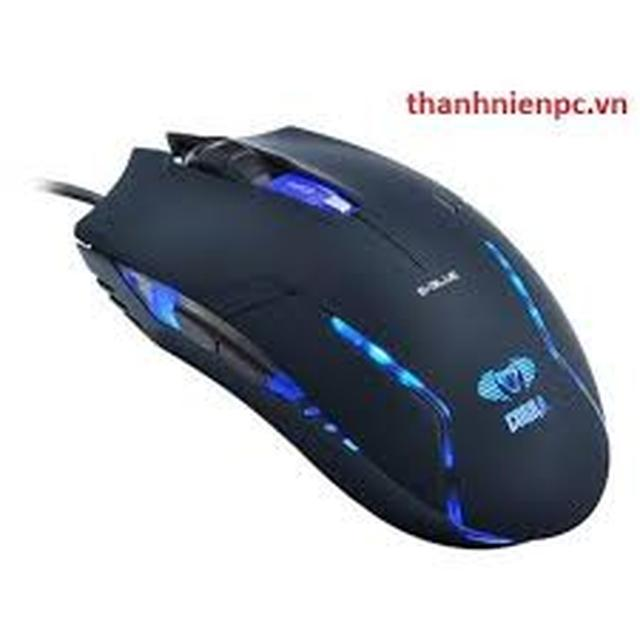mouse: (59, 126, 601, 573)
